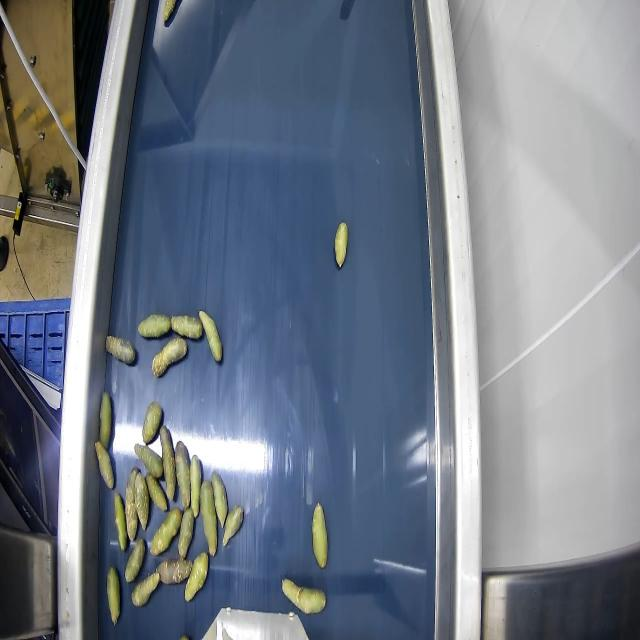Baby Potato: (283, 578, 327, 615), (150, 508, 182, 556), (153, 336, 188, 376), (183, 549, 209, 602), (198, 309, 222, 362), (200, 479, 216, 554), (160, 425, 176, 498), (134, 441, 164, 478), (312, 501, 328, 569), (175, 442, 191, 510), (123, 535, 145, 584), (94, 440, 114, 491), (156, 556, 192, 584), (130, 572, 158, 607), (212, 469, 228, 529), (222, 504, 244, 547), (125, 468, 138, 540), (134, 470, 149, 532), (105, 334, 135, 364), (138, 313, 172, 339), (142, 400, 162, 444), (113, 491, 127, 552), (106, 565, 120, 625), (178, 505, 194, 557), (170, 314, 202, 339), (190, 455, 202, 519), (99, 391, 111, 447), (336, 219, 348, 269)
